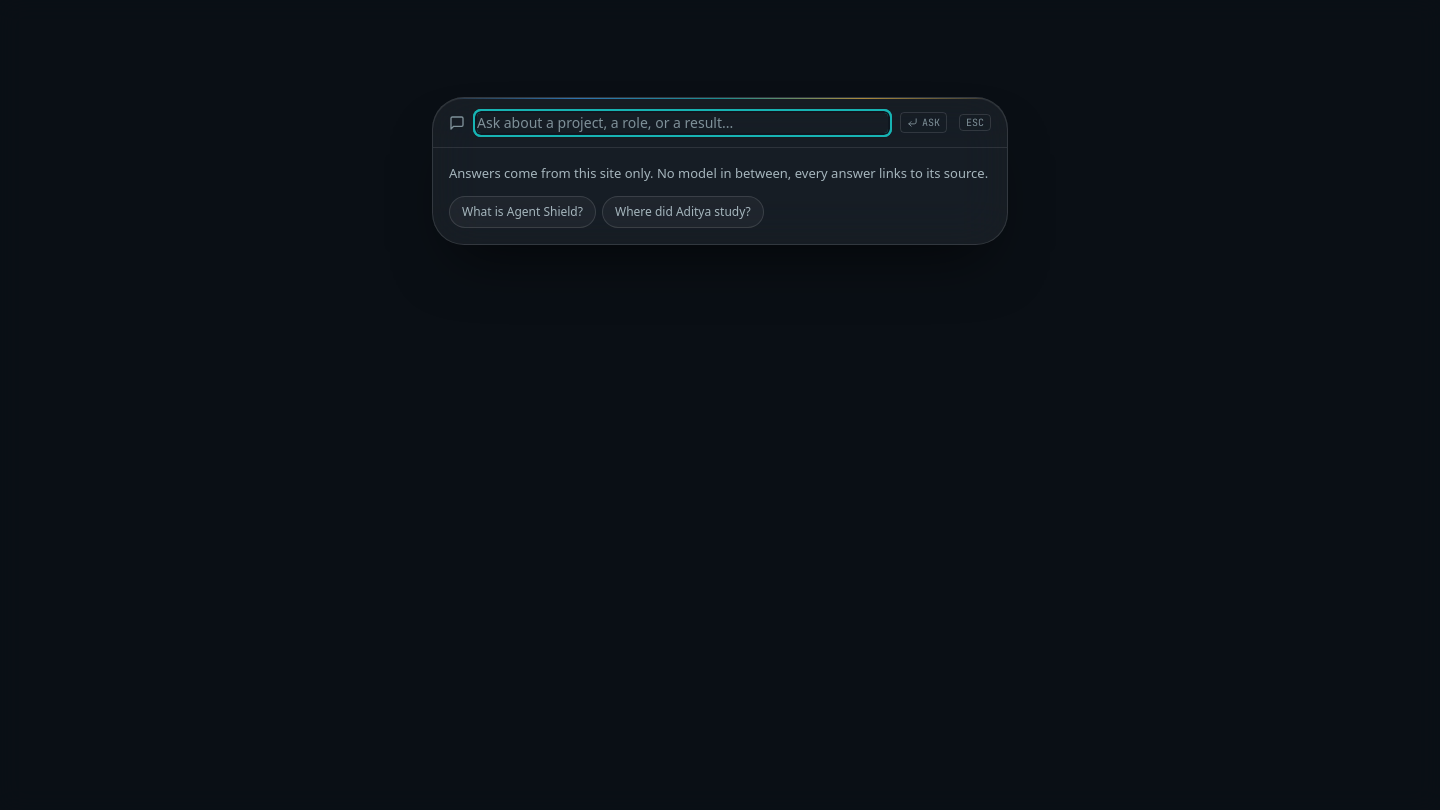
Test case: ProfileChat › idle shows suggestions from the service and asks one on click
Step 1. Click the button "What is Agent Shield?" → x=522, y=212, box x1=449 y1=196 x2=596 y2=228
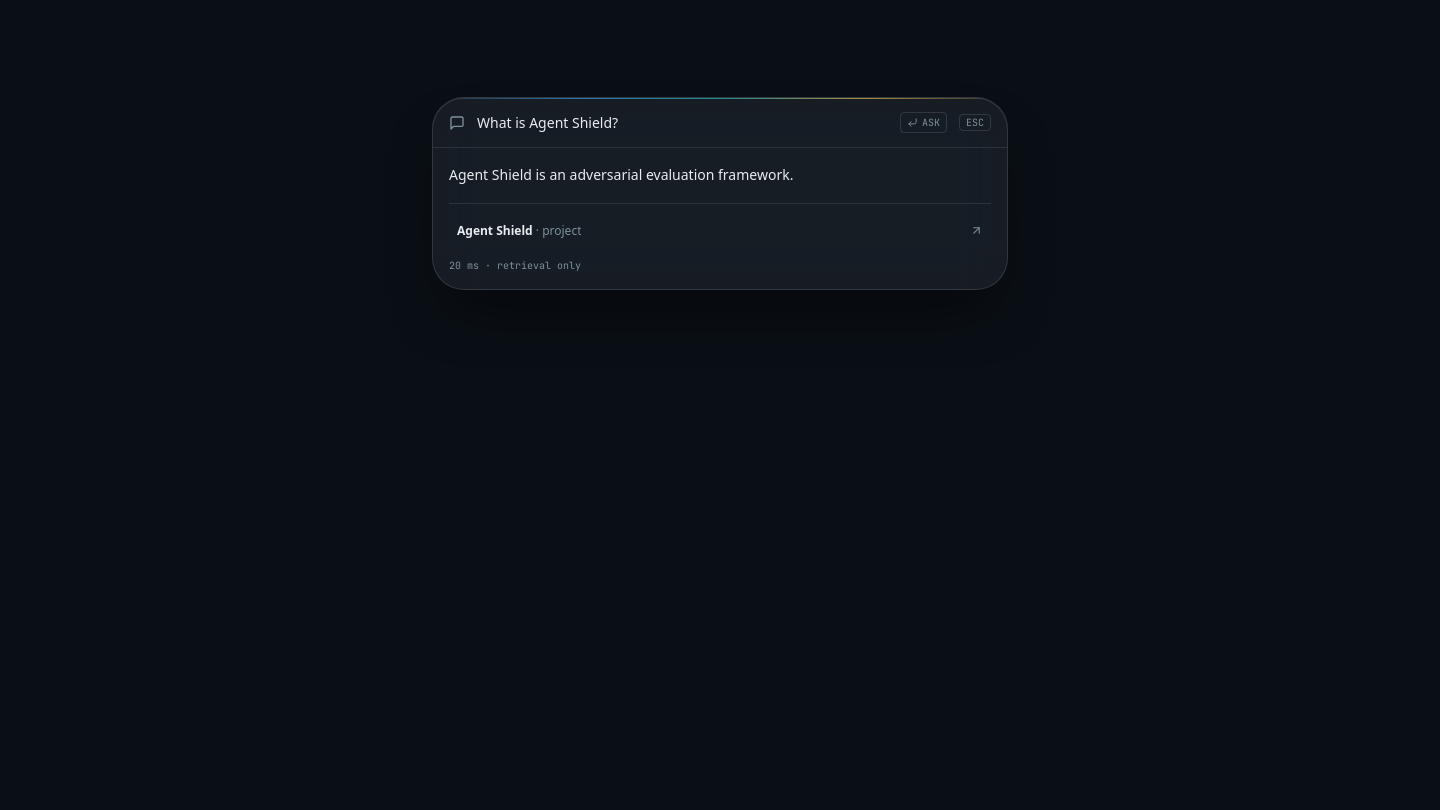
Result: the text "Agent Shield is an adversarial evaluation framework." is shown at x1=449 y1=165 x2=793 y2=184
